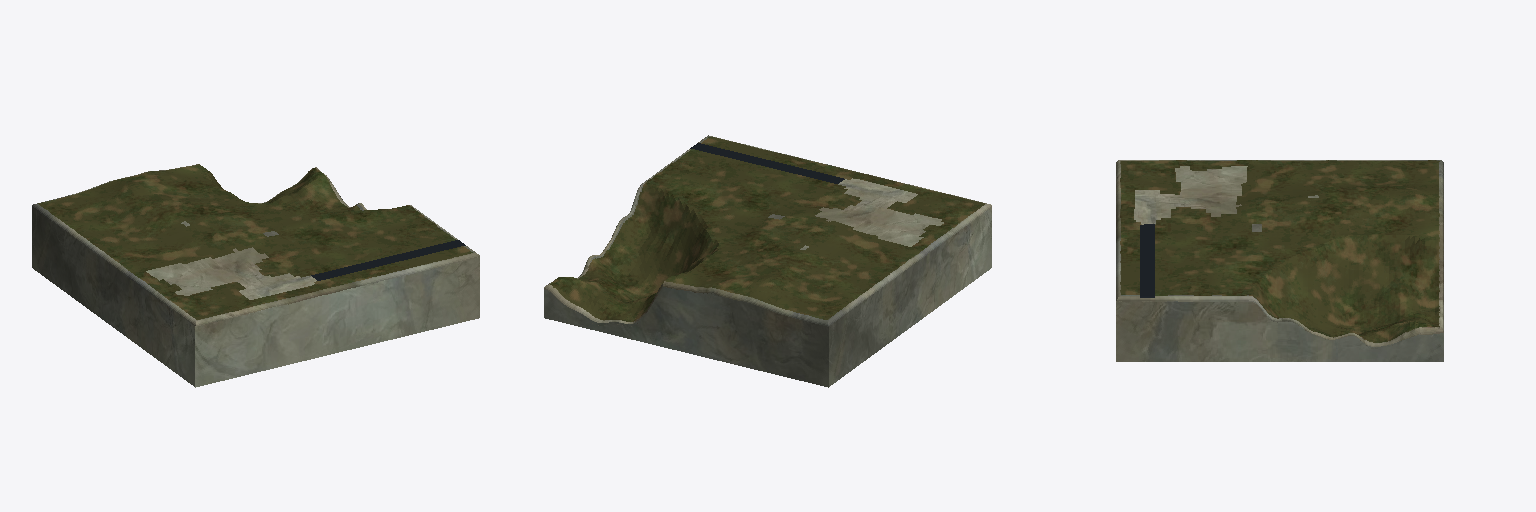
3 renders of one model, left to right at view 1: azimuth 30°, elevation 25°; view 2: azimuth 150°, elevation 25°; view 3: azimuth 270°, elevation 25°, orthographic.
Visible parts, largest first — view 1: Landscape.001; view 2: Landscape.001; view 3: Landscape.001.
Part boxes in pixels (left/top/right/bottom): Landscape.001: left=32, top=164, right=479, bottom=387; Landscape.001: left=544, top=135, right=991, bottom=387; Landscape.001: left=1116, top=160, right=1443, bottom=361.
Bounding box in the file's own units: 1.02 × 0.2524 × 1.01.
Materials: 3 (1 with a texture image).